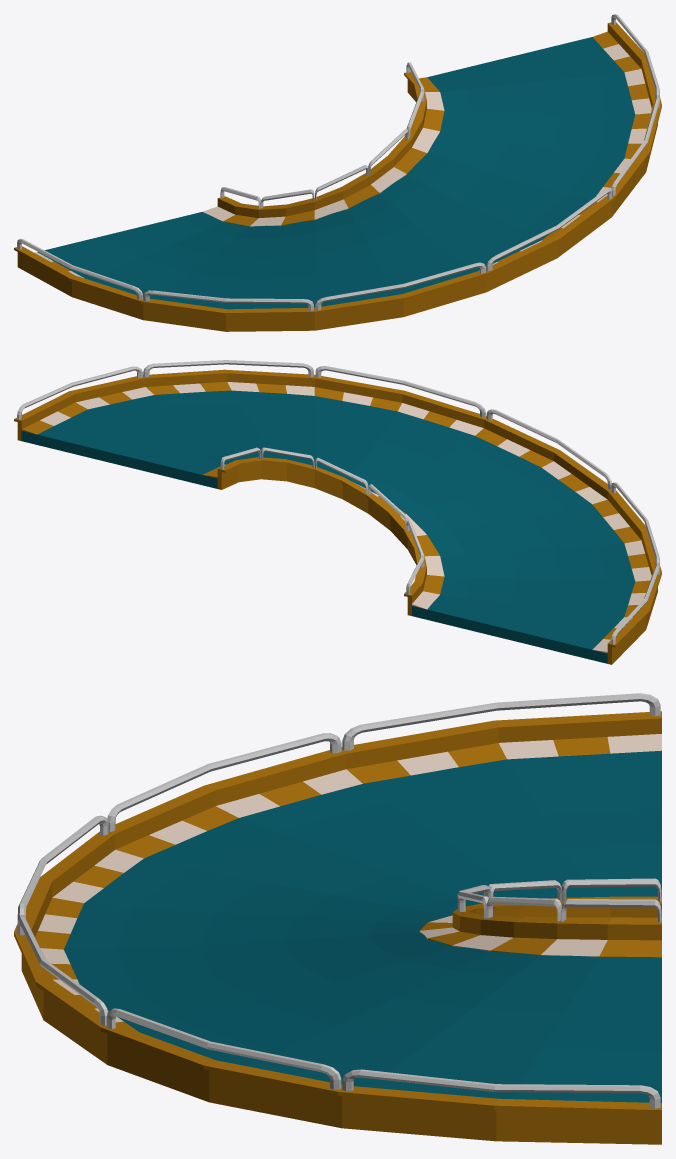
File: spiralUp-Left-180.FBX
3 views of the same model, one above another, from view 1: azimuth 30°, elevation 25°; view 2: azimuth 150°, elevation 25°; view 3: azimuth 270°, elevation 25° (orthographic). The views are drawn at different scales.
Parts seen in each view (by area): view 1: spiralUp-Left-180, wall_r, wall_l, curbs_l, curbs_r; view 2: spiralUp-Left-180, wall_r, curbs_r, wall_l, curbs_l; view 3: spiralUp-Left-180, wall_r, curbs_r, wall_l, curbs_l.
Part boxes in pixels (x1,y1,x2,y2): spiralUp-Left-180: [37, 37, 635, 309]; wall_r: [14, 14, 661, 331]; wall_l: [217, 62, 426, 218]; curbs_l: [202, 77, 444, 226]; curbs_r: [34, 31, 651, 278]; spiralUp-Left-180: [21, 390, 635, 663]; wall_r: [14, 360, 661, 664]; curbs_r: [21, 382, 651, 653]; wall_l: [217, 447, 426, 615]; curbs_l: [203, 464, 444, 609]; spiralUp-Left-180: [64, 750, 661, 1102]; wall_r: [14, 693, 661, 1144]; curbs_r: [35, 734, 661, 1031]; wall_l: [452, 878, 661, 940]; curbs_l: [419, 915, 661, 957].
Size of what is drawn, in the model's own units: 589 by 104 by 294.
